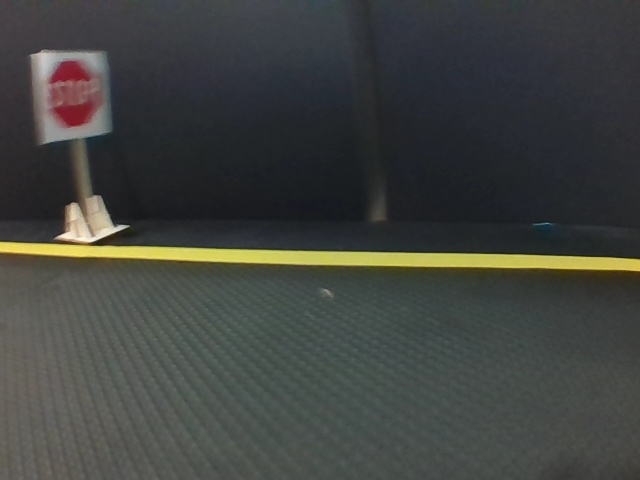stop: (35, 52, 112, 134)
